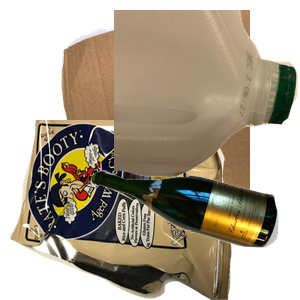cardboard: (43, 10, 283, 190)
glass: (88, 167, 300, 300)
plastic: (114, 10, 300, 179)
trash: (10, 120, 235, 300)
